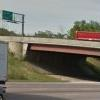Bridge: (5, 25, 98, 67)
